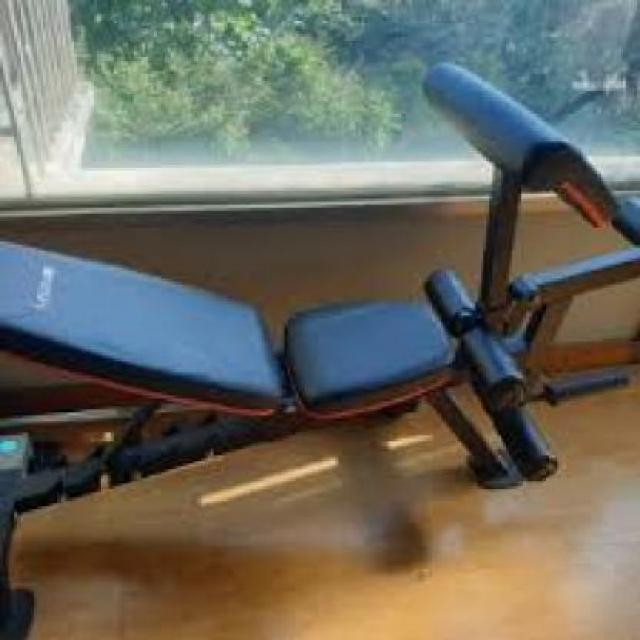reg curl machine: (3, 68, 639, 634)
